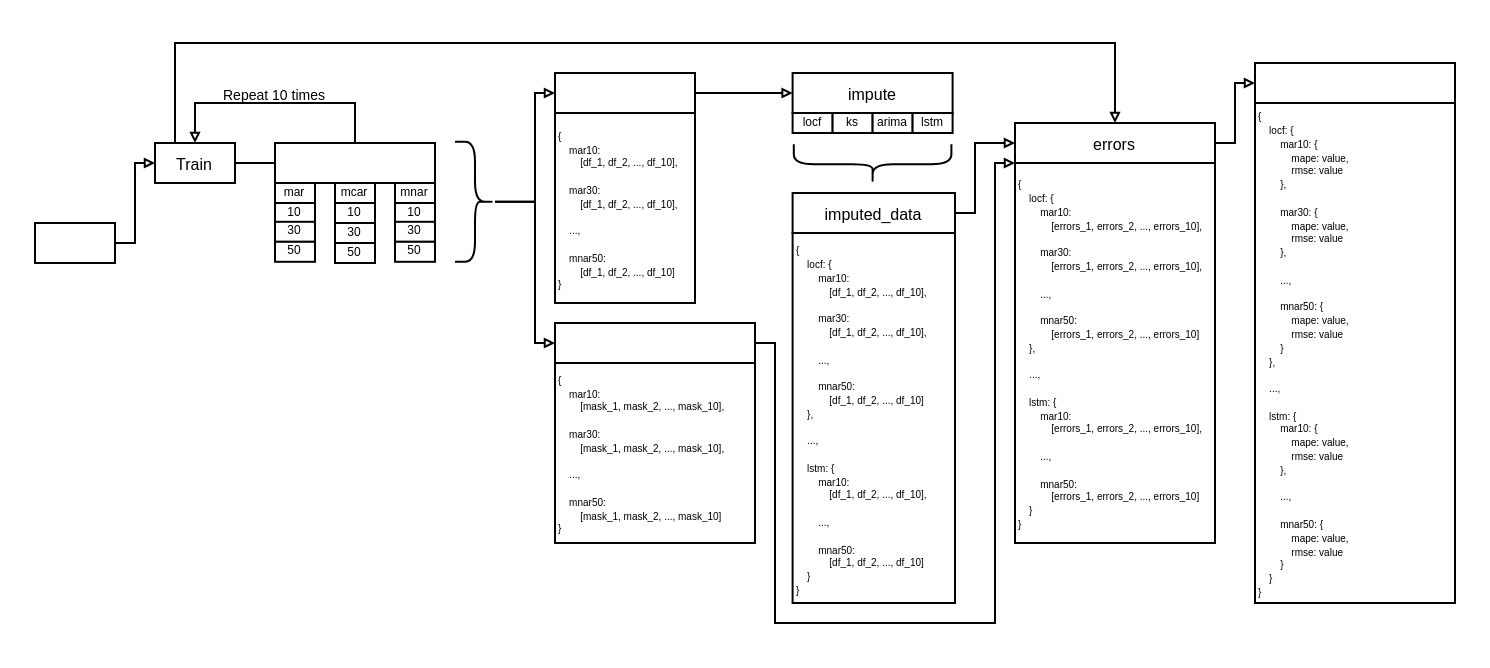
This 1490x668 diagram has some shape labels left out. Each missing label, with the centre of its shape:
Data: point (74, 242)
mask_dict: point (654, 342)
measure_reconstruction: point (1354, 82)
missing_dict: point (624, 92)
simulate missingness: point (354, 162)
